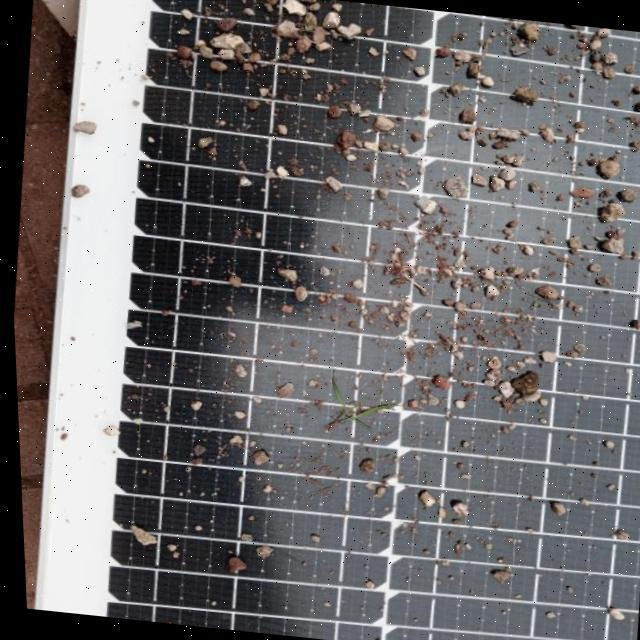Surface Contaminant: (72, 0, 640, 640)
